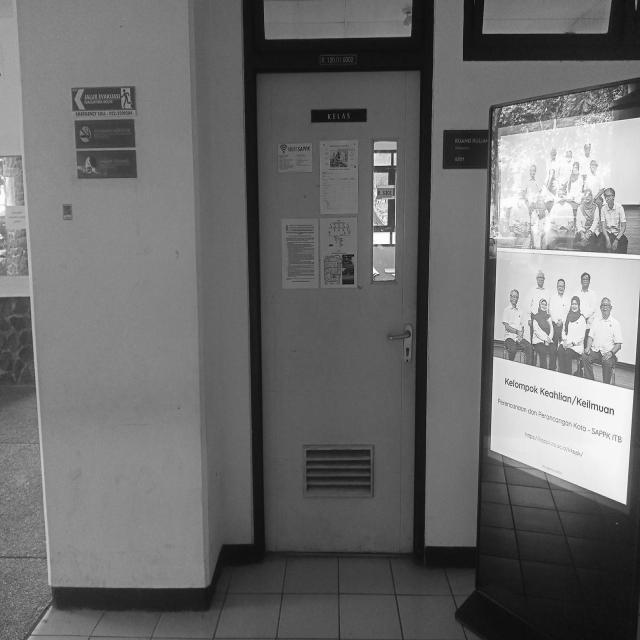door: (254, 68, 421, 554)
